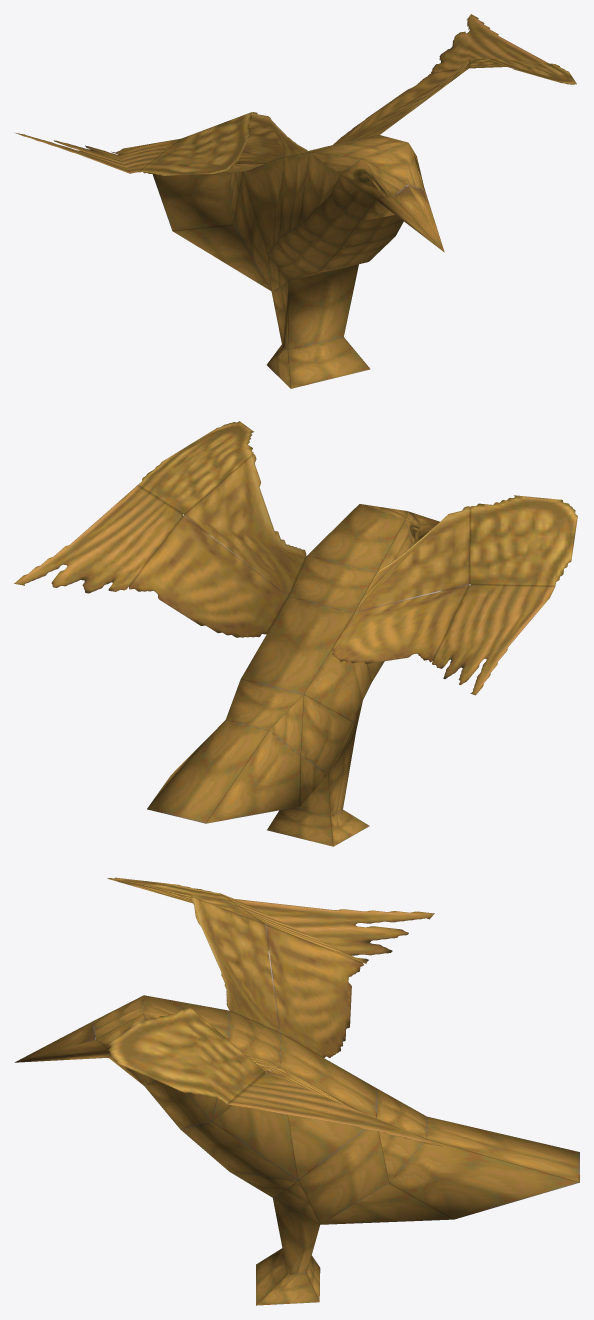
3 renders of one model, top to bottom at view 1: azimuth 30°, elevation 25°; view 2: azimuth 150°, elevation 25°; view 3: azimuth 270°, elevation 25°, orthographic. The views are drawn at different scales.
Parts seen in each view (by area): view 1: T1L8M001_20; view 2: T1L8M001_20; view 3: T1L8M001_20.
Boxes of the visible parts, <box> form: T1L8M001_20: <box>14,14,576,388</box>; T1L8M001_20: <box>14,421,577,846</box>; T1L8M001_20: <box>14,877,579,1305</box>.
Size of the model in its own units: 1.08 by 0.7285 by 1.09.
